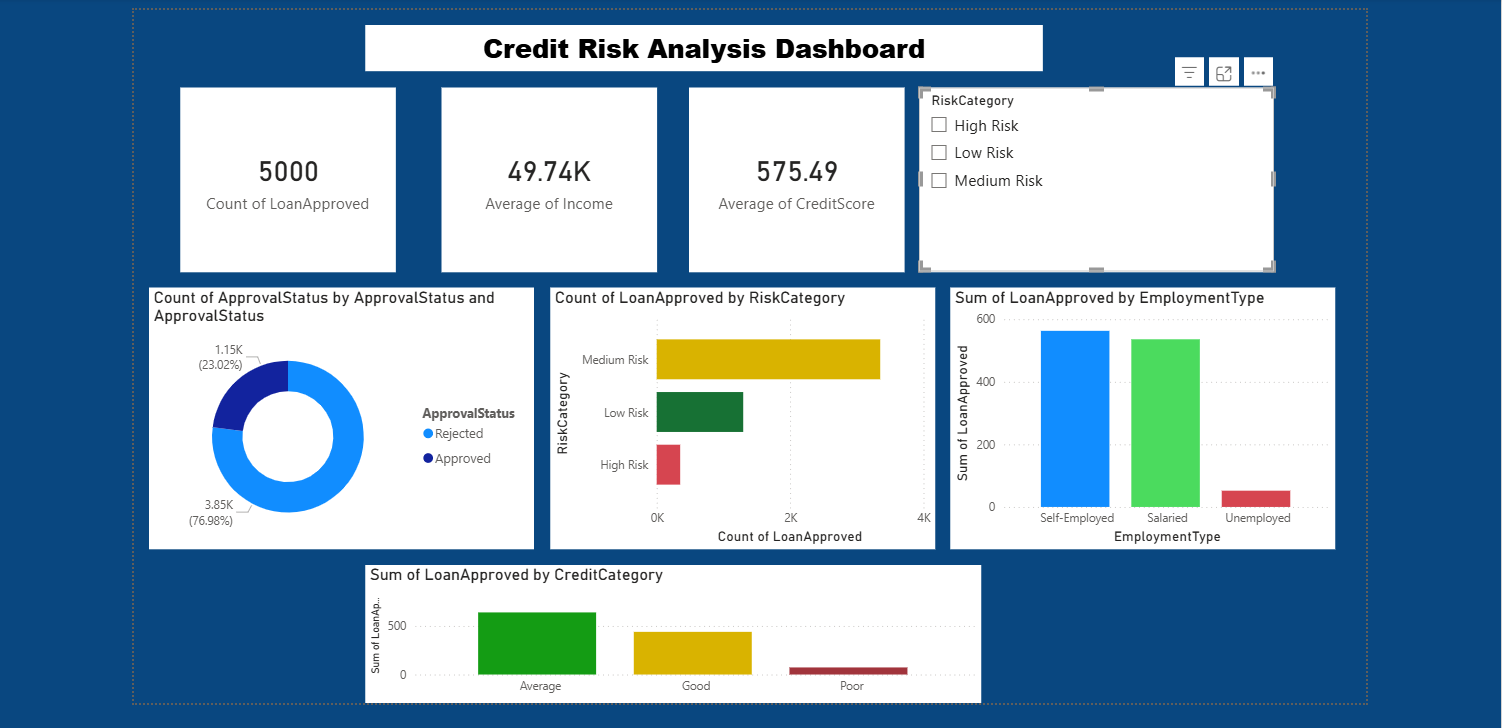

This screenshot's page, from the dashboard's own definition file:
{"tool":"powerbi","page":{"name":"Page 1","canvas":[1280,720],"ordinal":0},"visuals":[{"type":"donutChart","fields":{"Category":["loan_risk_prediction_dataset.ApprovalStatus"],"Series":["loan_risk_prediction_dataset.ApprovalStatus"],"Y":["CountNonNull(loan_risk_prediction_dataset.ApprovalStatus)"]},"box":[16,288,400,272],"z":0},{"type":"clusteredColumnChart","fields":{"Category":["loan_risk_prediction_dataset.EmploymentType"],"Y":["Sum(loan_risk_prediction_dataset.LoanApproved)"]},"box":[848,288,400,272],"z":1000},{"type":"clusteredColumnChart","fields":{"Category":["loan_risk_prediction_dataset.CreditCategory"],"Y":["Sum(loan_risk_prediction_dataset.LoanApproved)"]},"box":[240,576,640,144],"z":2000},{"type":"clusteredBarChart","fields":{"Category":["loan_risk_prediction_dataset.RiskCategory"],"Y":["CountNonNull(loan_risk_prediction_dataset.LoanApproved)"]},"box":[432,288,400,272],"z":3000},{"type":"card","fields":{"Values":["CountNonNull(loan_risk_prediction_dataset.LoanApproved)"]},"box":[48,80,224,192],"z":4000},{"type":"card","fields":{"Values":["Avg(loan_risk_prediction_dataset.CreditScore)"]},"box":[560,80,224,192],"z":5000},{"type":"slicer","fields":{"Values":["loan_risk_prediction_dataset.RiskCategory"]},"box":[816,80,368,192],"z":5500},{"type":"card","fields":{"Values":["Avg(loan_risk_prediction_dataset.Income)"]},"box":[304,80,224,192],"z":6000},{"type":"textbox","box":[240,16,704,48],"z":8000}]}

Visuals, with their boxes in screenshot pixels (x1, y1, x2, y2):
donutChart - loan_risk_prediction_dataset.ApprovalStatus x loan_risk_prediction_dataset.ApprovalStatus: <box>148,281,533,542</box>
clusteredColumnChart - loan_risk_prediction_dataset.EmploymentType x Sum(loan_risk_prediction_dataset.LoanApproved): <box>948,281,1333,542</box>
clusteredColumnChart - loan_risk_prediction_dataset.CreditCategory x Sum(loan_risk_prediction_dataset.LoanApproved): <box>364,558,979,696</box>
clusteredBarChart - loan_risk_prediction_dataset.RiskCategory x CountNonNull(loan_risk_prediction_dataset.LoanApproved): <box>548,281,933,542</box>
card - CountNonNull(loan_risk_prediction_dataset.LoanApproved): <box>179,81,394,265</box>
card - Avg(loan_risk_prediction_dataset.CreditScore): <box>671,81,887,265</box>
slicer - loan_risk_prediction_dataset.RiskCategory: <box>917,81,1271,265</box>
card - Avg(loan_risk_prediction_dataset.Income): <box>425,81,640,265</box>
textbox: <box>364,19,1040,65</box>
